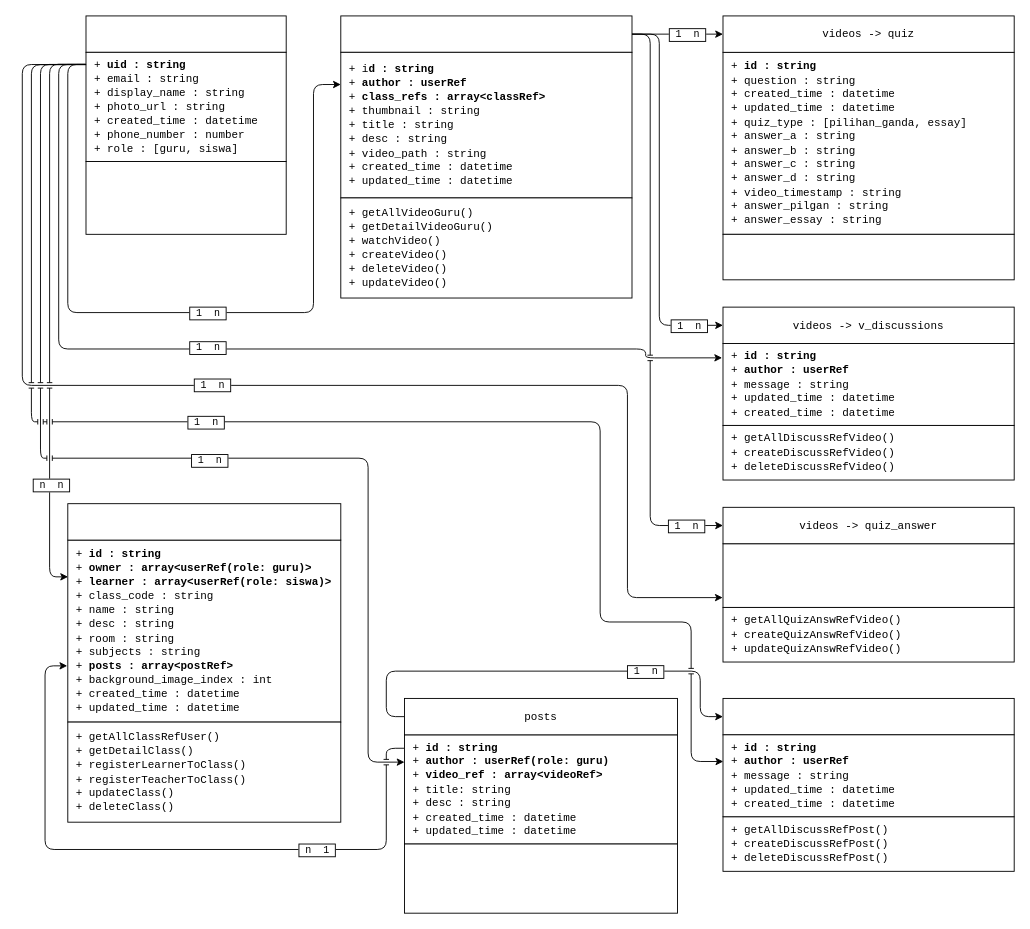
This 1030x929 diagram has some shape labels left out. Each missing label, with the box of its shape:
+ getAllPostRefClass() + createPost () + deletePost () + updatePost(): (404, 843, 677, 913)
+ getAllQuizRefVideo() + createQuizRefVideo(): (722, 233, 1014, 280)
+ id : string + total_quiz : int + answer : array<int> + user_ref : userRef: (722, 543, 1014, 607)
+ login() + register() + update_password() + update_profile() + update_image(): (85, 161, 286, 234)
classess: (67, 503, 341, 540)
posts -> p_discussions: (722, 698, 1014, 735)
users: (85, 15, 286, 52)
videos: (340, 15, 632, 52)
